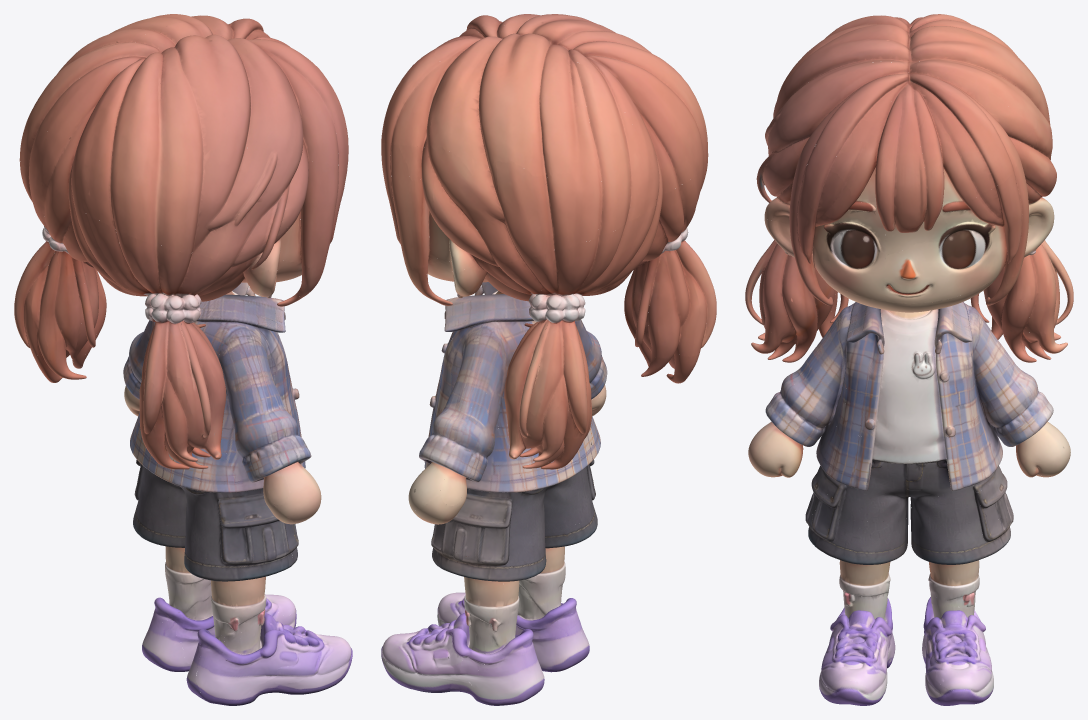
File: casual.glb
3 views of the same model, side by side, from view 1: azimuth 30°, elevation 25°; view 2: azimuth 150°, elevation 25°; view 3: azimuth 270°, elevation 25° (orthographic). The views are drawn at different scales.
Visible parts, largest first — view 1: tripo_node_eaaecfa6-1b7e-41de-ad8a-c2a30f8901c6; view 2: tripo_node_eaaecfa6-1b7e-41de-ad8a-c2a30f8901c6; view 3: tripo_node_eaaecfa6-1b7e-41de-ad8a-c2a30f8901c6.
Part boxes in pixels (<box>): tripo_node_eaaecfa6-1b7e-41de-ad8a-c2a30f8901c6: <box>14,14,352,705</box>; tripo_node_eaaecfa6-1b7e-41de-ad8a-c2a30f8901c6: <box>381,14,716,705</box>; tripo_node_eaaecfa6-1b7e-41de-ad8a-c2a30f8901c6: <box>745,14,1073,705</box>.
Size of the model in its own units: 0.4253 by 1 by 0.4766.
Materials: 1 (1 with a texture image).
